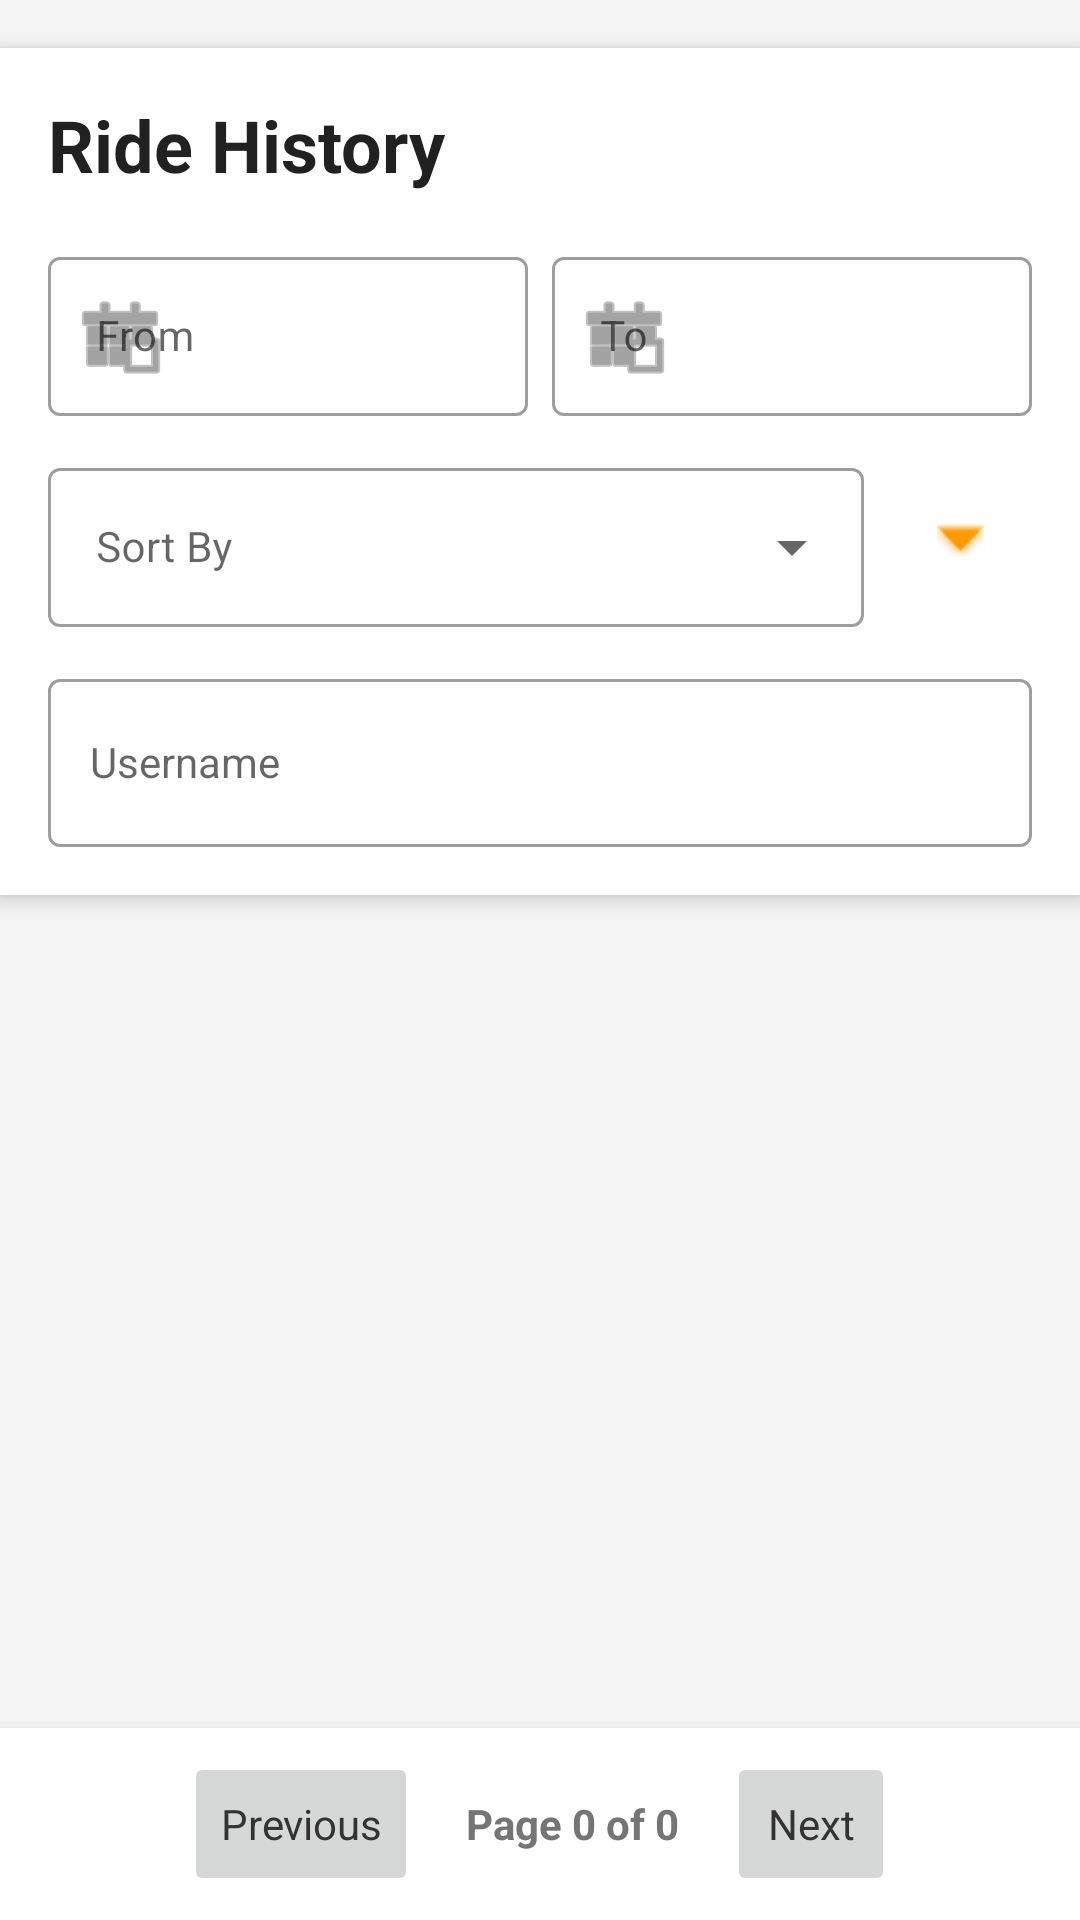

Named icons in this screenshot (1080 × 1920) and their centers, (x=x, y=y):
Sort Direction: (x=960, y=540)
